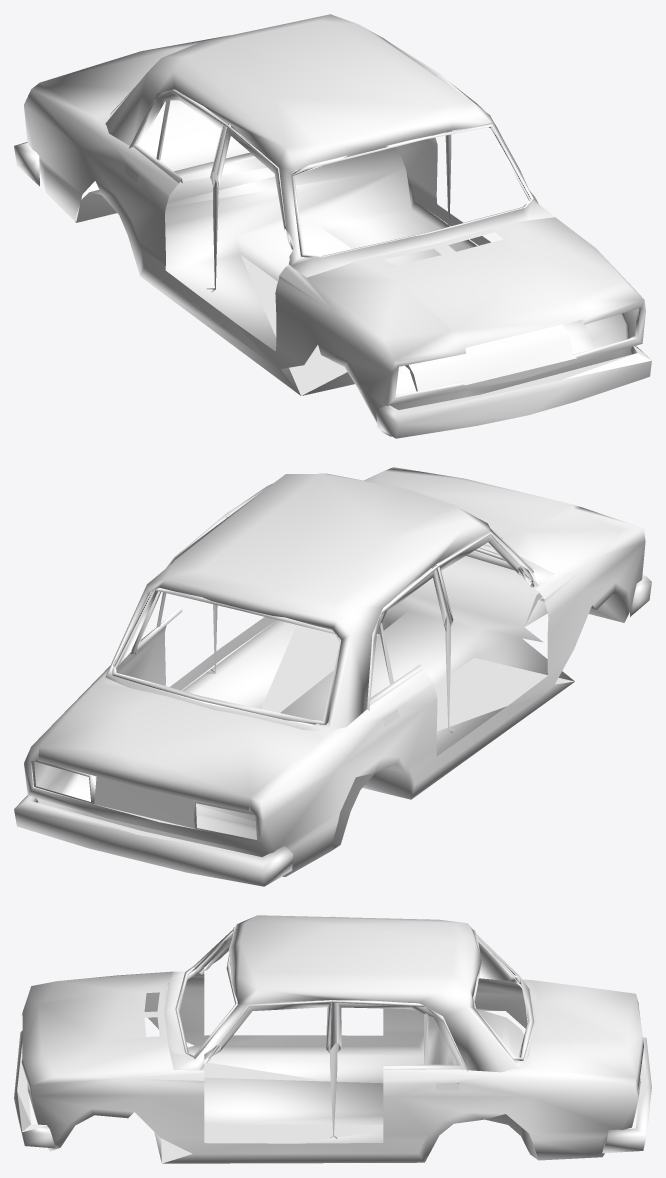
3 views of the same model, one above another, from view 1: azimuth 30°, elevation 25°; view 2: azimuth 150°, elevation 25°; view 3: azimuth 270°, elevation 25° (orthographic). The views are drawn at different scales.
Size of the model in its own units: 1.69 by 1.17 by 4.15.
1 material, 1 textured.
